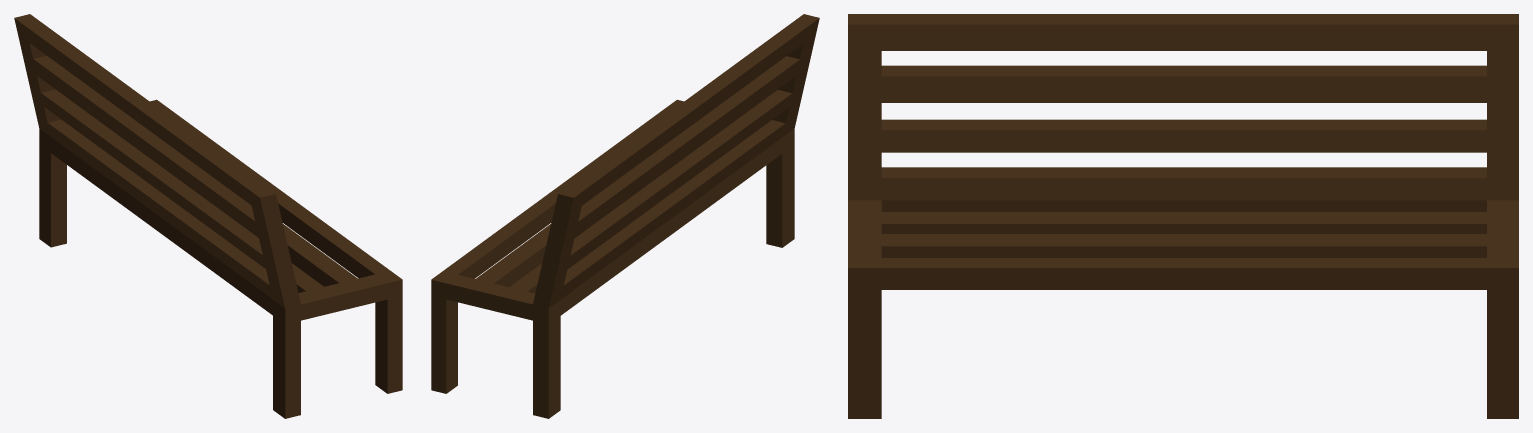
Rendered from co_BenchWood.fbx.
3 renders of one model, left to right at view 1: azimuth 30°, elevation 25°; view 2: azimuth 150°, elevation 25°; view 3: azimuth 270°, elevation 25°, orthographic. The views are drawn at different scales.
Visible parts, largest first — view 1: BenchB_01; view 2: BenchB_01; view 3: BenchB_01.
Part boxes in pixels (x1,y1,x2,y2): BenchB_01: (14, 14, 402, 418); BenchB_01: (431, 14, 819, 418); BenchB_01: (848, 14, 1518, 418).
Bounding box in the file's own units: 162 × 246 × 483.
